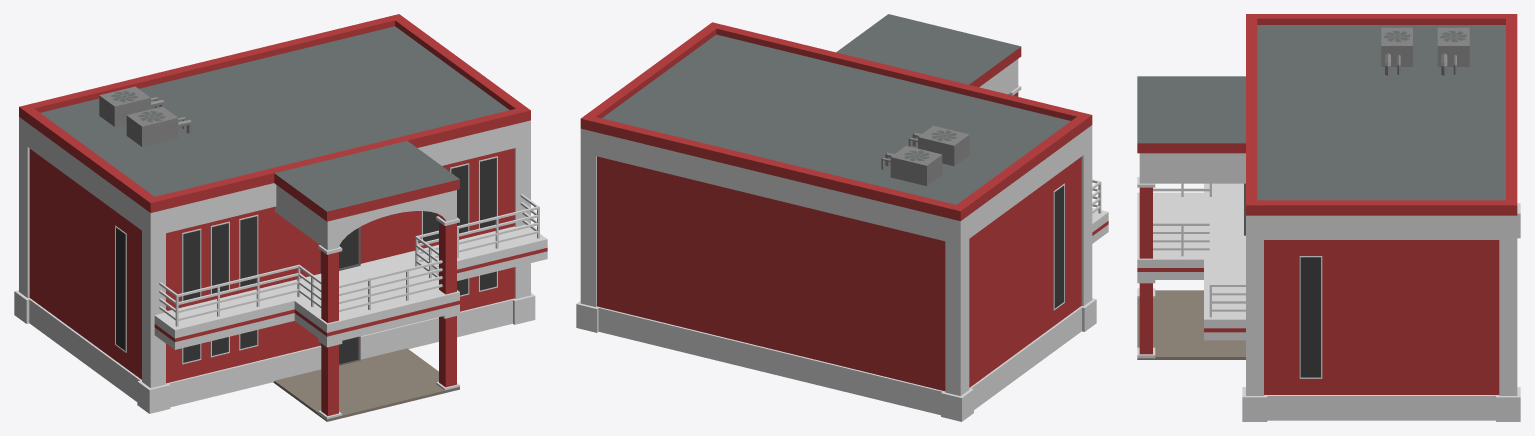
The model's file is Building_House_03_color01.fbx.
The picture shows the model from 3 angles, left to right: view 1: azimuth 30°, elevation 25°; view 2: azimuth 150°, elevation 25°; view 3: azimuth 270°, elevation 25°; orthographic projection. The views are drawn at different scales.
Parts seen in each view (by area): view 1: Building_House_03_color01; view 2: Building_House_03_color01; view 3: Building_House_03_color01.
Part boxes in pixels (x1,y1,x2,y2): Building_House_03_color01: [14, 14, 547, 421]; Building_House_03_color01: [576, 14, 1108, 421]; Building_House_03_color01: [1137, 14, 1520, 421].
Size of the model in its own units: 1726 by 961 by 1441.
